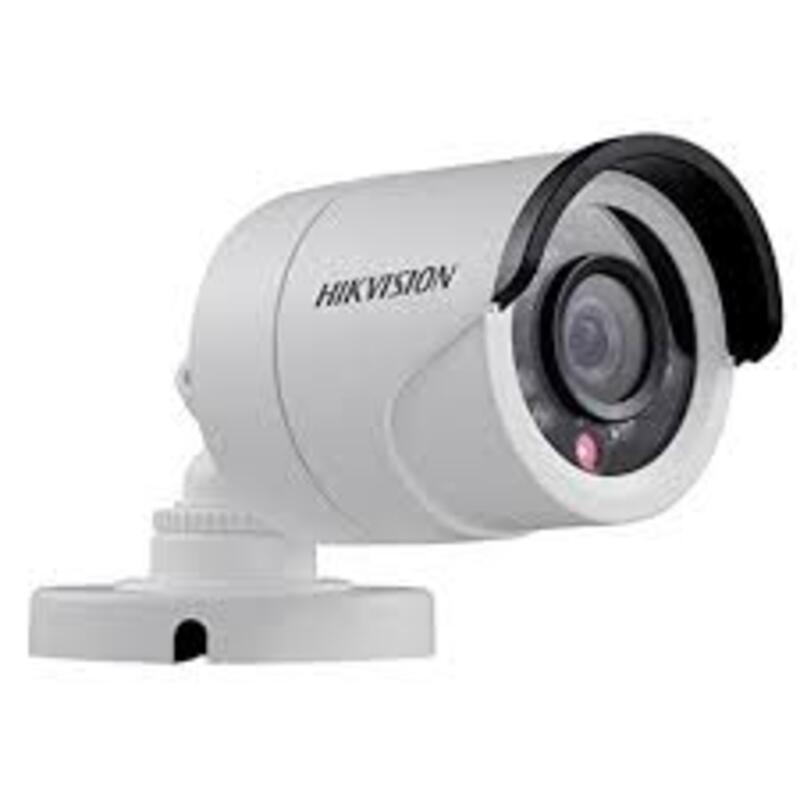bullet: (176, 125, 798, 555)
